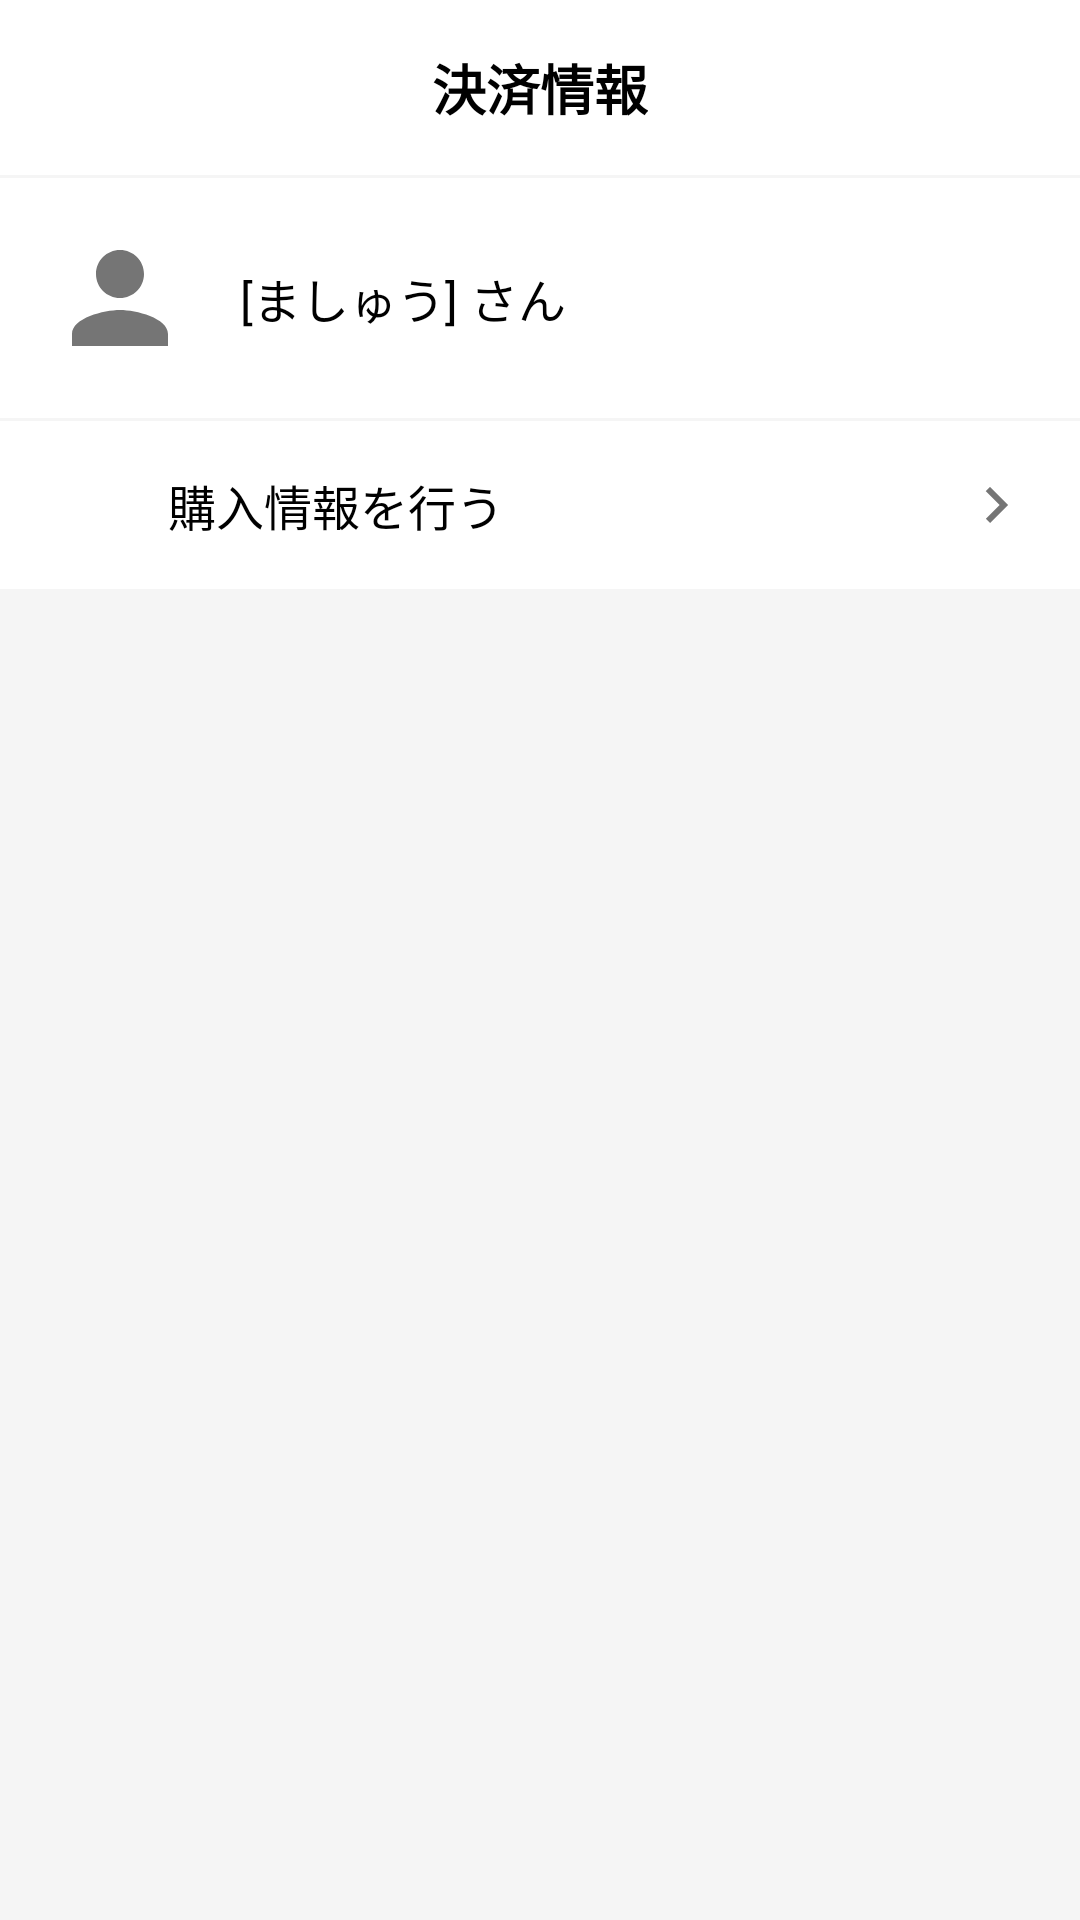

Icons on this 1080w x 1920h Android screen, each with its box as (x1, y1, x2, y2):
arrow right: (986, 487, 1008, 523)
person: (72, 250, 168, 346)
